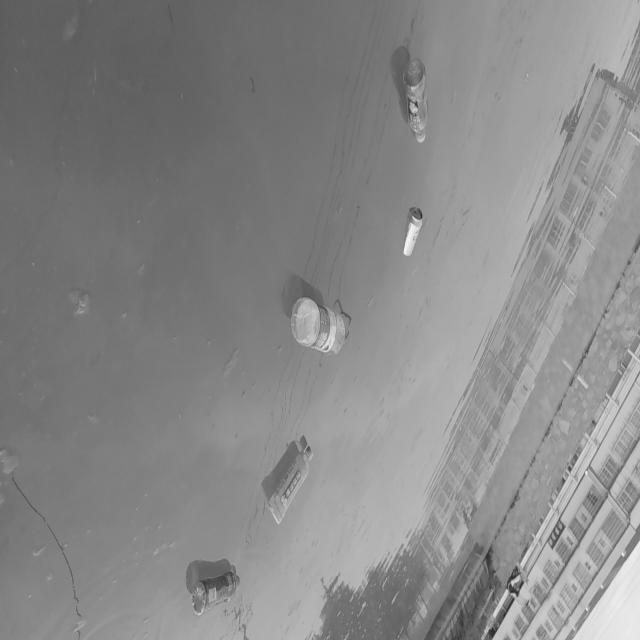bottle: (172, 542, 255, 628), (285, 274, 361, 362), (259, 441, 321, 528), (394, 53, 437, 147)
